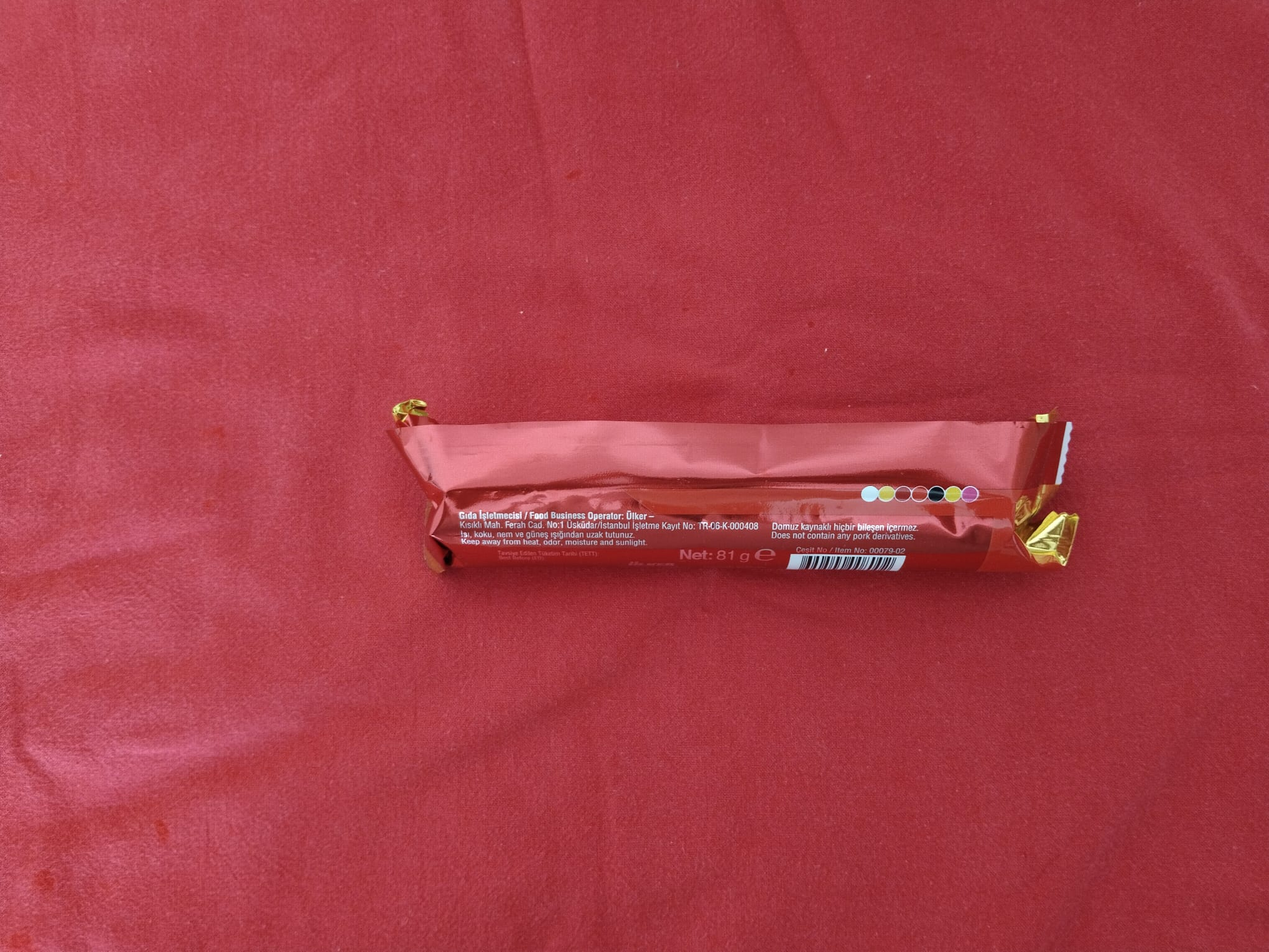ulker_cokoprens_biskuvi: (389, 417, 1076, 579)
